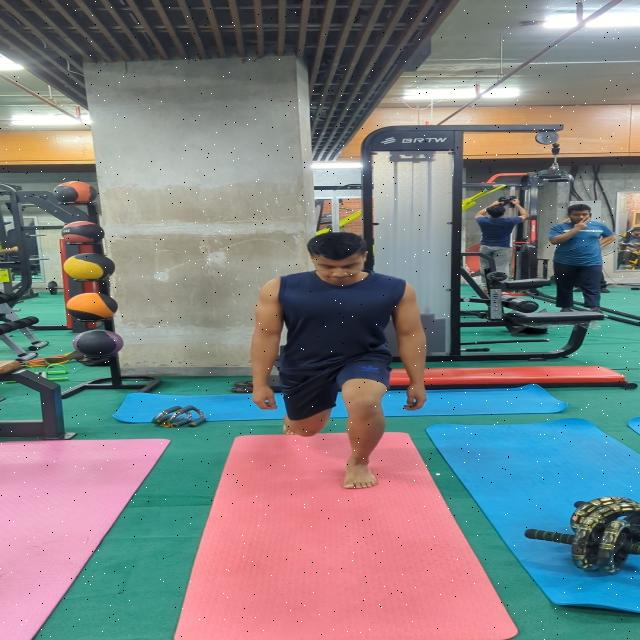Normal_Lunges: (248, 227, 428, 490)
